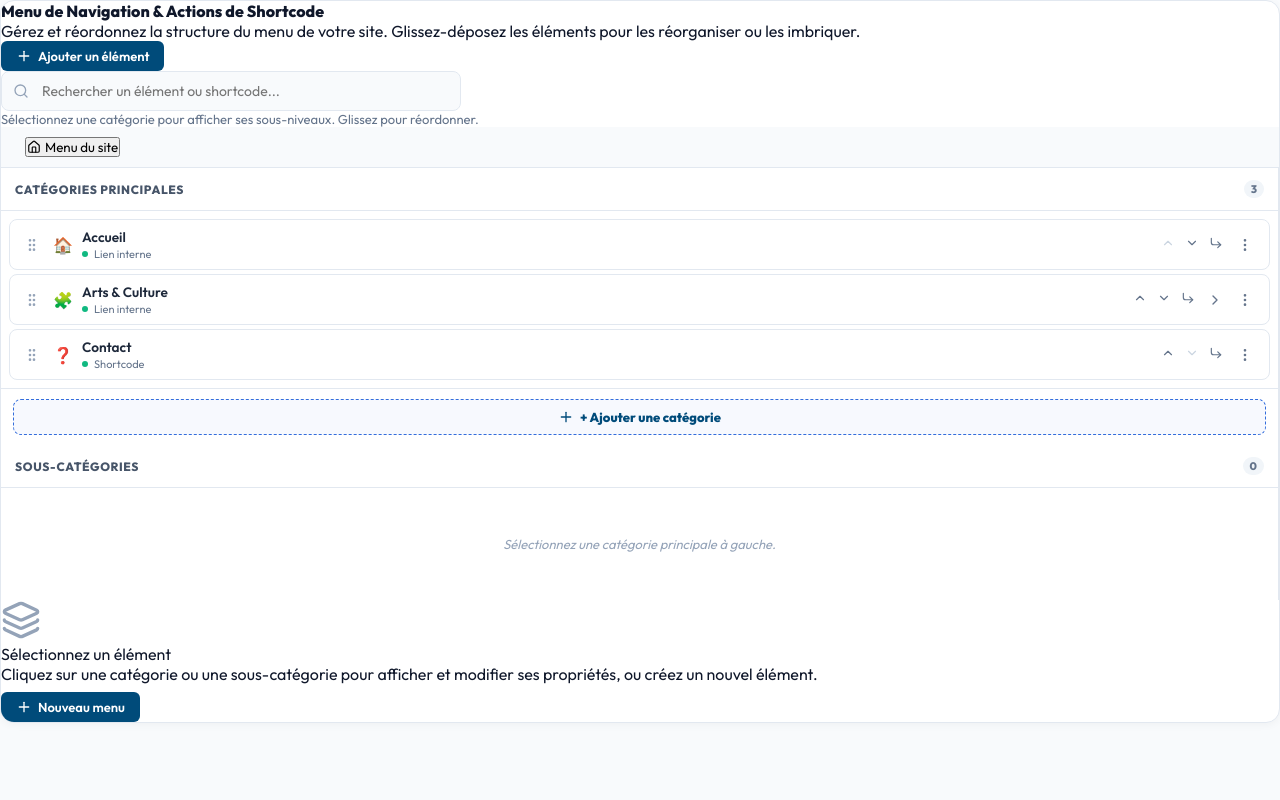
Test: MenuManager Column-Based Navigation Tests › clicking a top-level category displays its children in Column 2
# Click on "Arts & Culture"
Click the text "Arts & Culture": (125, 292) [82,283,168,301]
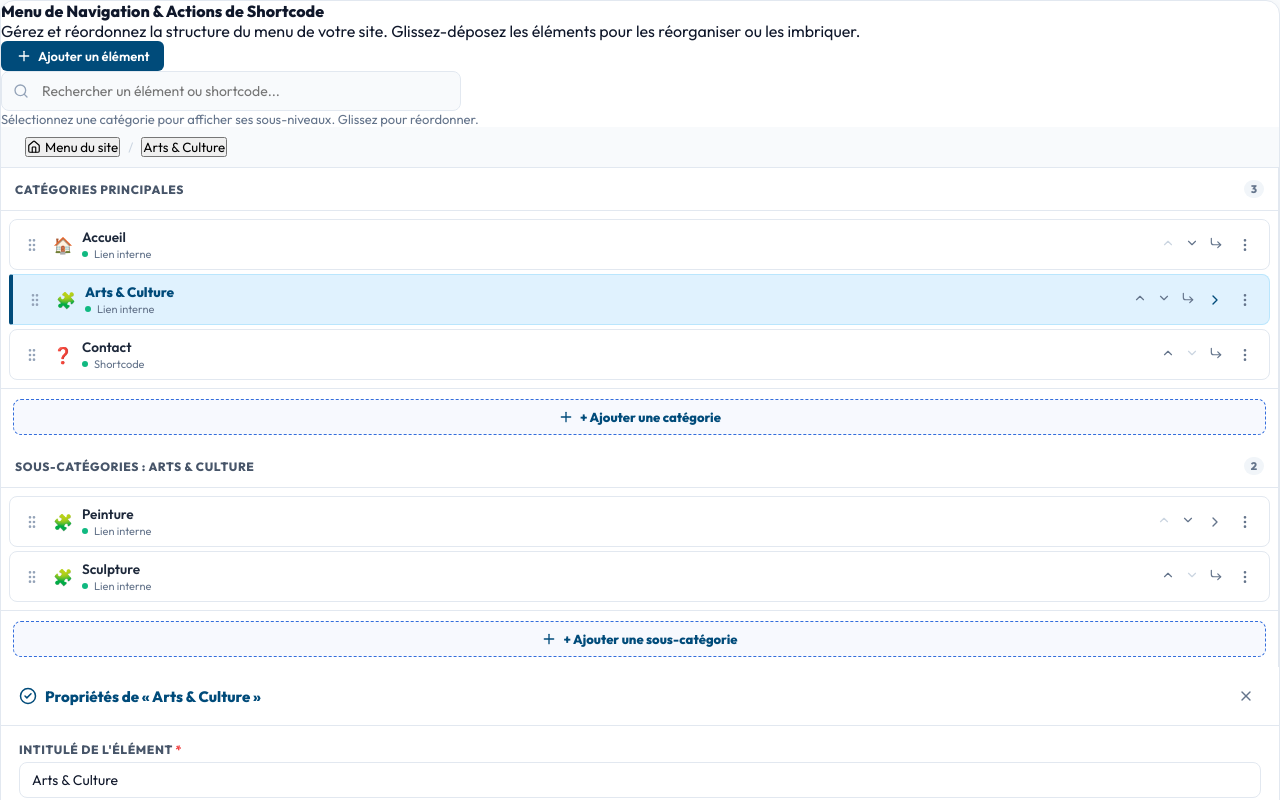
Now the text "Peinture" is shown, box [82,505,134,523]
Now the text "Sculpture" is shown, box [82,560,140,578]
